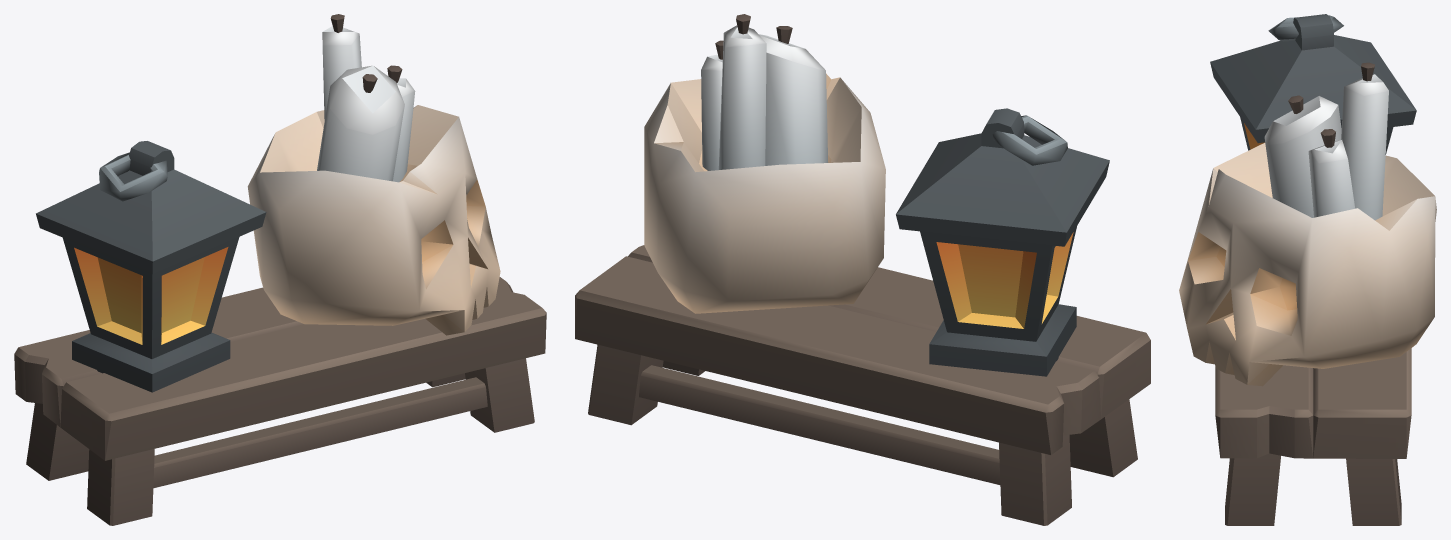
The model's file is cc0-bench-decorated-lod1.glb.
3 views of the same model, side by side, from view 1: azimuth 30°, elevation 25°; view 2: azimuth 150°, elevation 25°; view 3: azimuth 270°, elevation 25° (orthographic). The views are drawn at different scales.
Parts seen in each view (by area): view 1: part_0; view 2: part_0; view 3: part_0.
Boxes of the visible parts, left/top/right/bottom form: part_0: left=14, top=14, right=546, bottom=525; part_0: left=575, top=14, right=1150, bottom=525; part_0: left=1179, top=14, right=1436, bottom=525.
Bounding box in the file's own units: 2 × 1.68 × 0.9856.
Materials: 1 (1 with a texture image).
